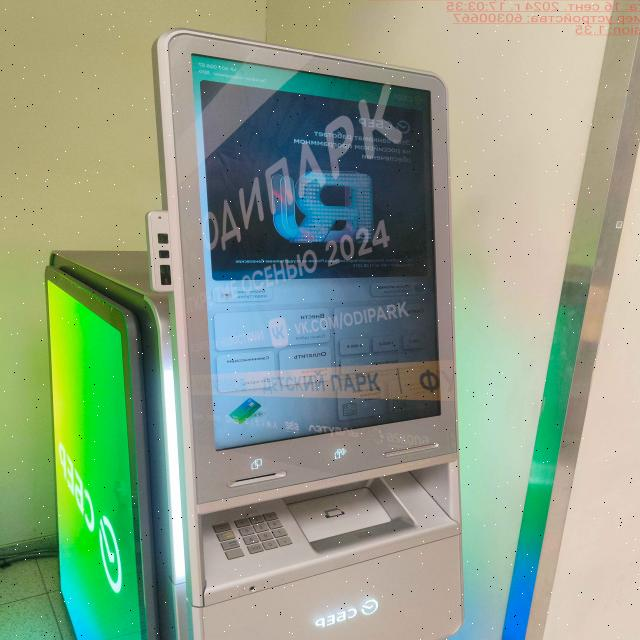bank: (48, 26, 466, 640)
